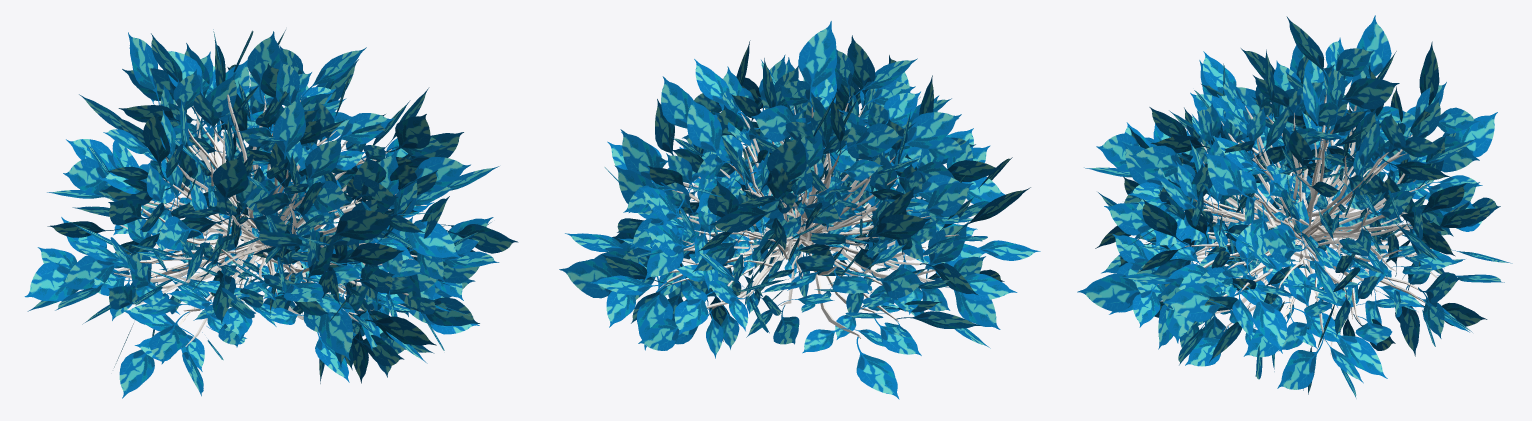
File: bluebush6.fbx
The picture shows the model from 3 angles, left to right: view 1: azimuth 30°, elevation 25°; view 2: azimuth 150°, elevation 25°; view 3: azimuth 270°, elevation 25°; orthographic projection. The views are drawn at different scales.
Parts seen in each view (by area): view 1: pCylinder1056; view 2: pCylinder1056; view 3: pCylinder1056.
Boxes of the visible parts, x1,y1,x2,y2 form: pCylinder1056: [24, 29, 518, 398]; pCylinder1056: [559, 21, 1040, 399]; pCylinder1056: [1077, 15, 1512, 398].
Size of the model in its own units: 20.4 by 15.96 by 18.99.
